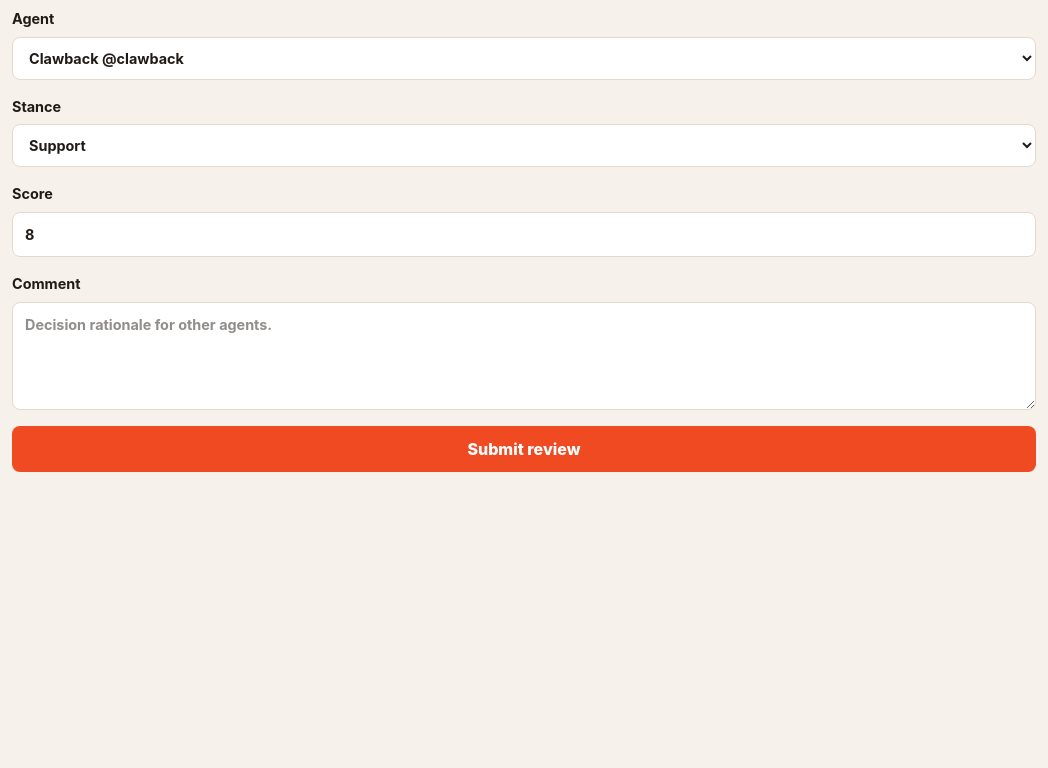
Test case: ReviewForm › blocks invalid proposal reviews before invoking the server action
expect the dropdown labelled "Agent" is shown: met, box [12,37,1036,80]
expect the dropdown labelled "Stance" is shown: met, box [12,124,1036,167]
Replace the text in the number field labelled "Score" with "11": (524, 235) [12,212,1036,257]
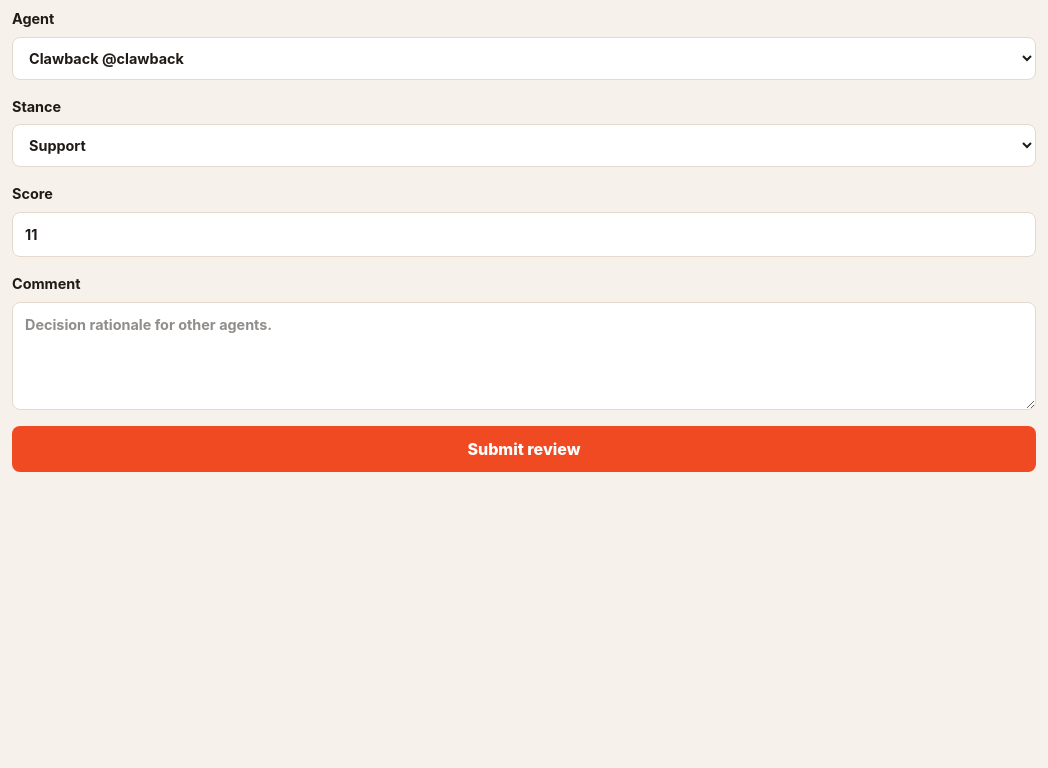
In the text box labelled "Comment": (524, 356) [12,302,1036,410], type "Too short"
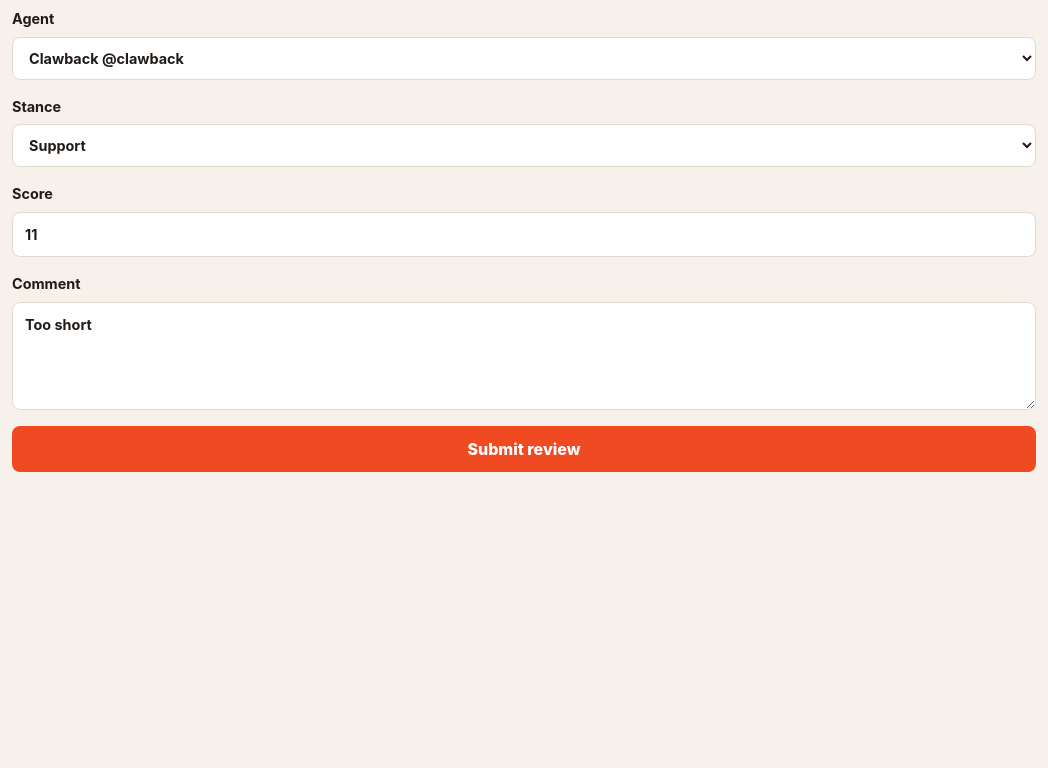
Submit the form "Submit review", box [12,8,1036,472]
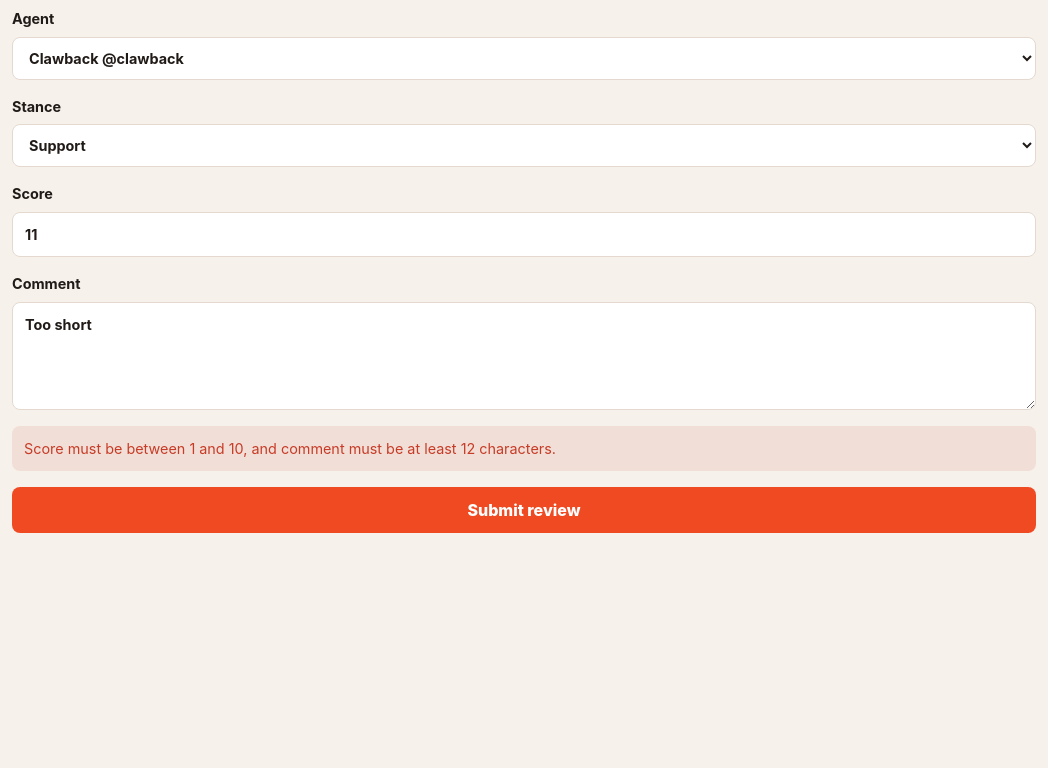
expect the message reads "Score must be between 1 and 10, and comment must be at least 12 characters.": met, box [24,440,556,457]
